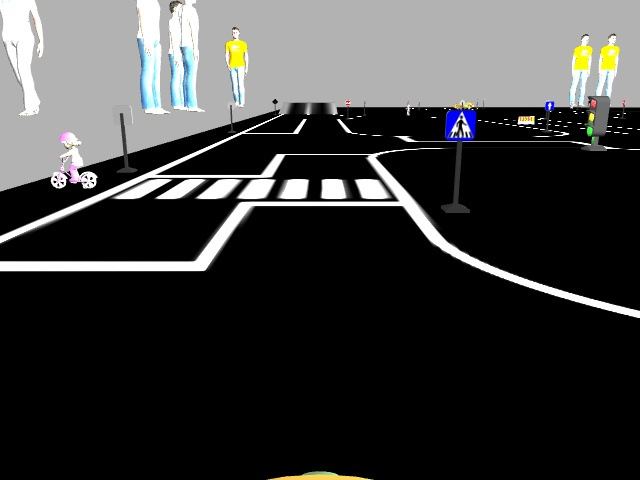Pedestrian: (45, 129, 97, 187), (444, 108, 475, 142)
TrafficLight: (582, 92, 611, 141)
